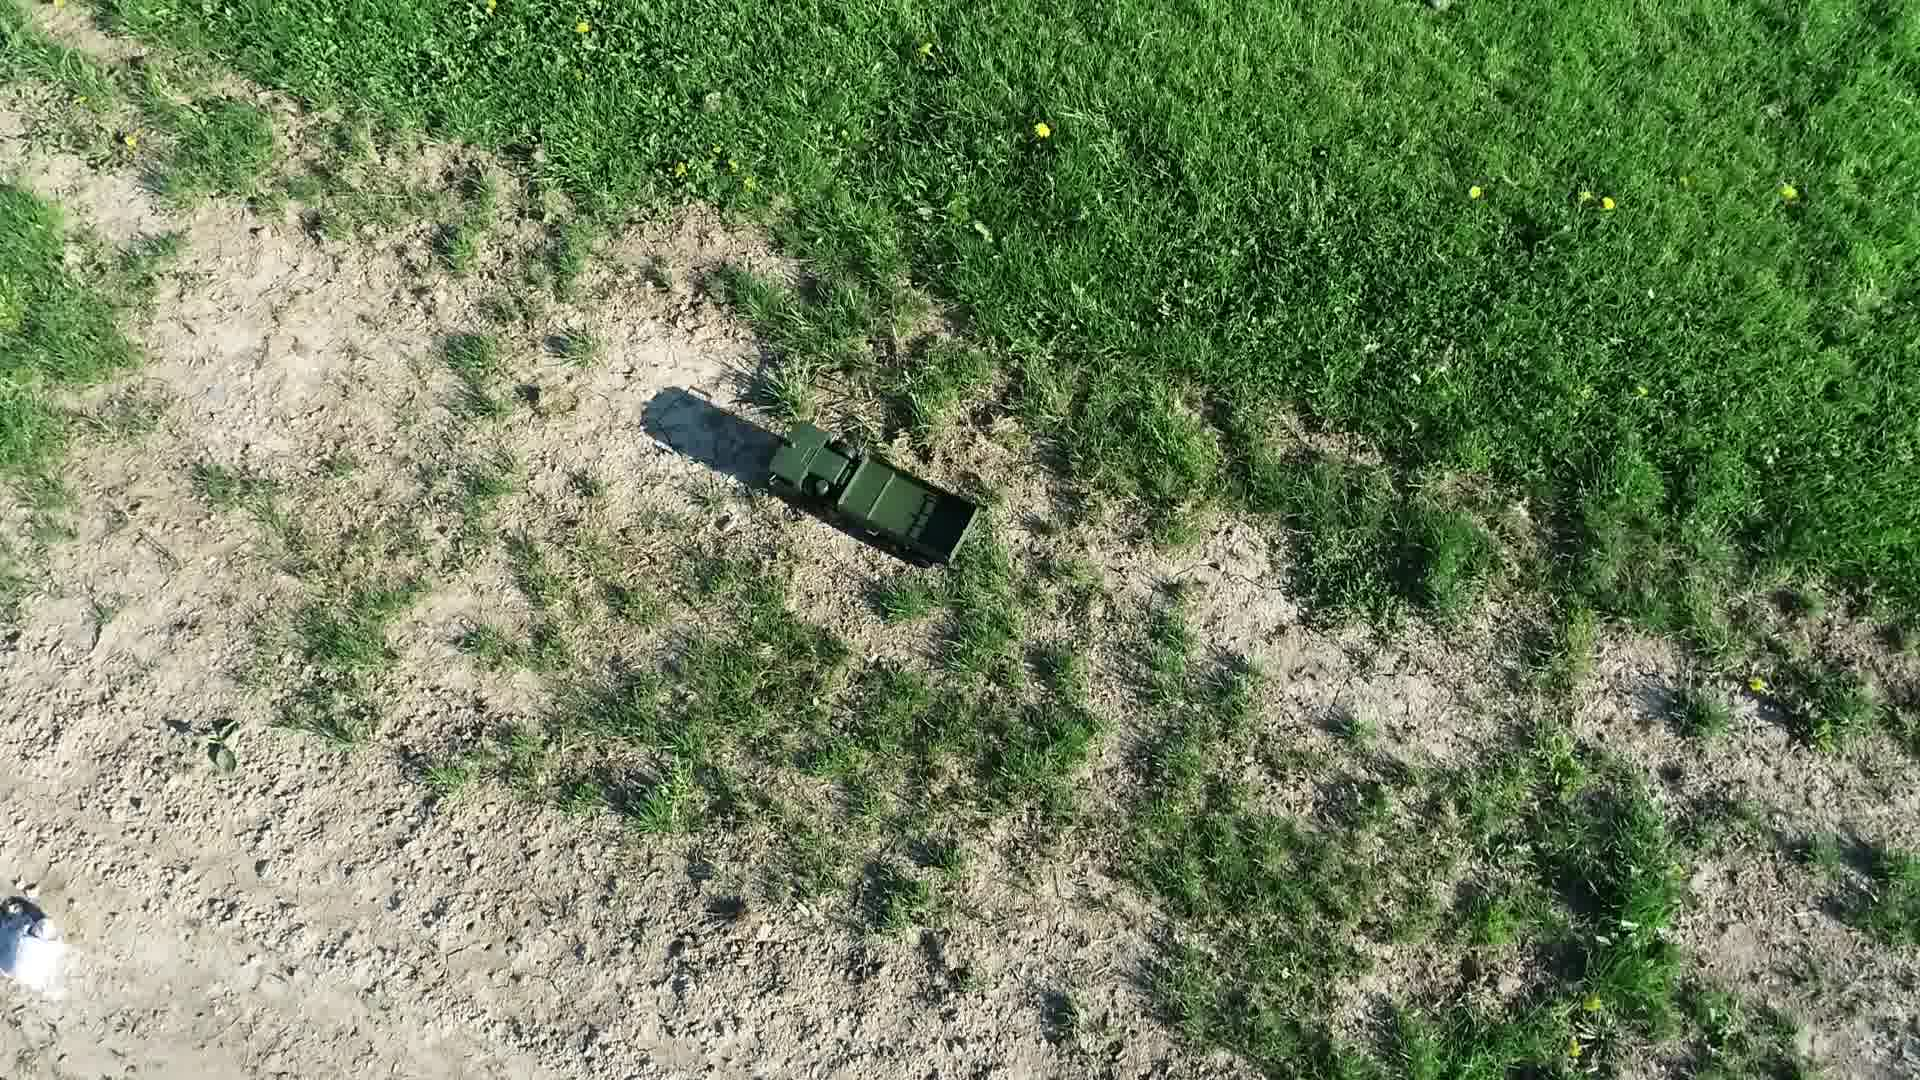transporter9: (756, 425, 994, 575)
